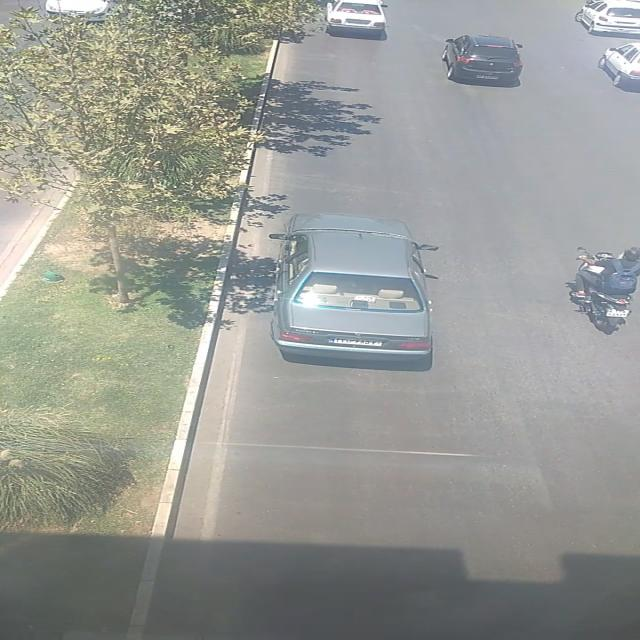car: (270, 213, 443, 361), (438, 34, 526, 88), (576, 1, 640, 38), (594, 42, 640, 92), (324, 0, 388, 32), (46, 0, 113, 21)
motor: (562, 242, 640, 330)
